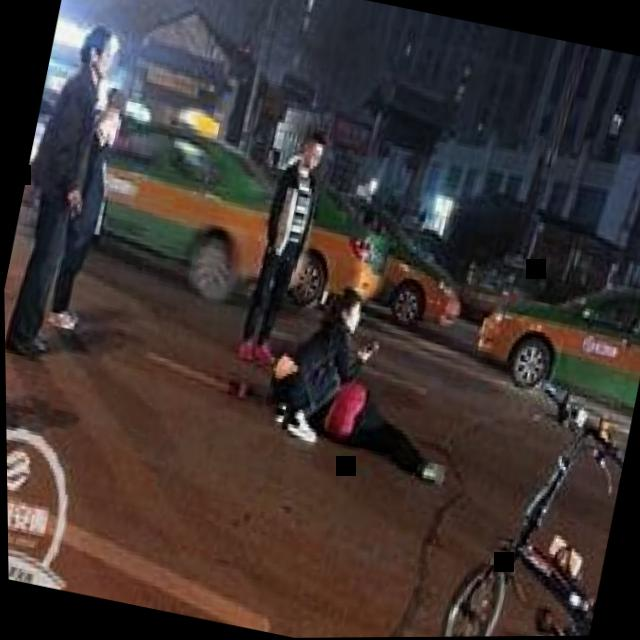Fall-Detected: (300, 338, 479, 496)
